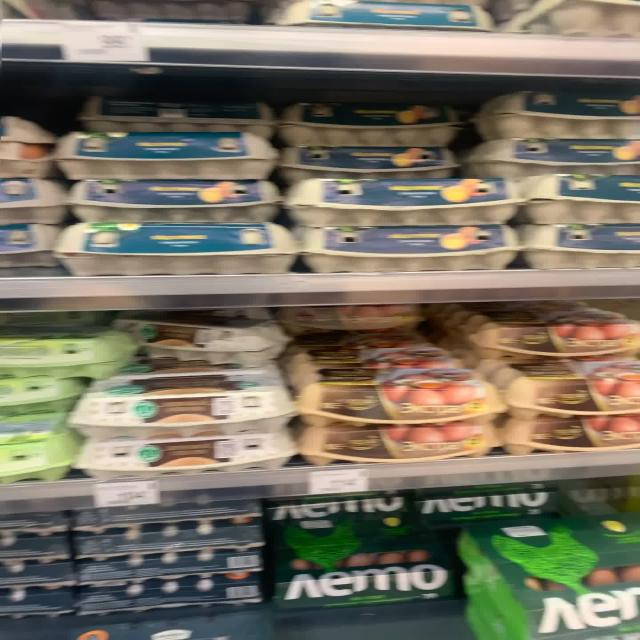egg box: (453, 513, 638, 638), (262, 538, 463, 618), (60, 216, 298, 277), (295, 367, 509, 429), (66, 376, 300, 432), (286, 173, 520, 225), (52, 131, 275, 185), (74, 430, 304, 480), (76, 90, 277, 144), (297, 222, 517, 270), (300, 419, 503, 469), (281, 332, 473, 384), (457, 308, 635, 360), (71, 181, 282, 224), (482, 361, 638, 418), (121, 311, 293, 362), (279, 101, 461, 146), (474, 93, 638, 140), (0, 322, 137, 376), (261, 1, 499, 32), (277, 144, 458, 184), (466, 133, 634, 176), (524, 169, 638, 225), (517, 220, 638, 269), (501, 417, 635, 454)
